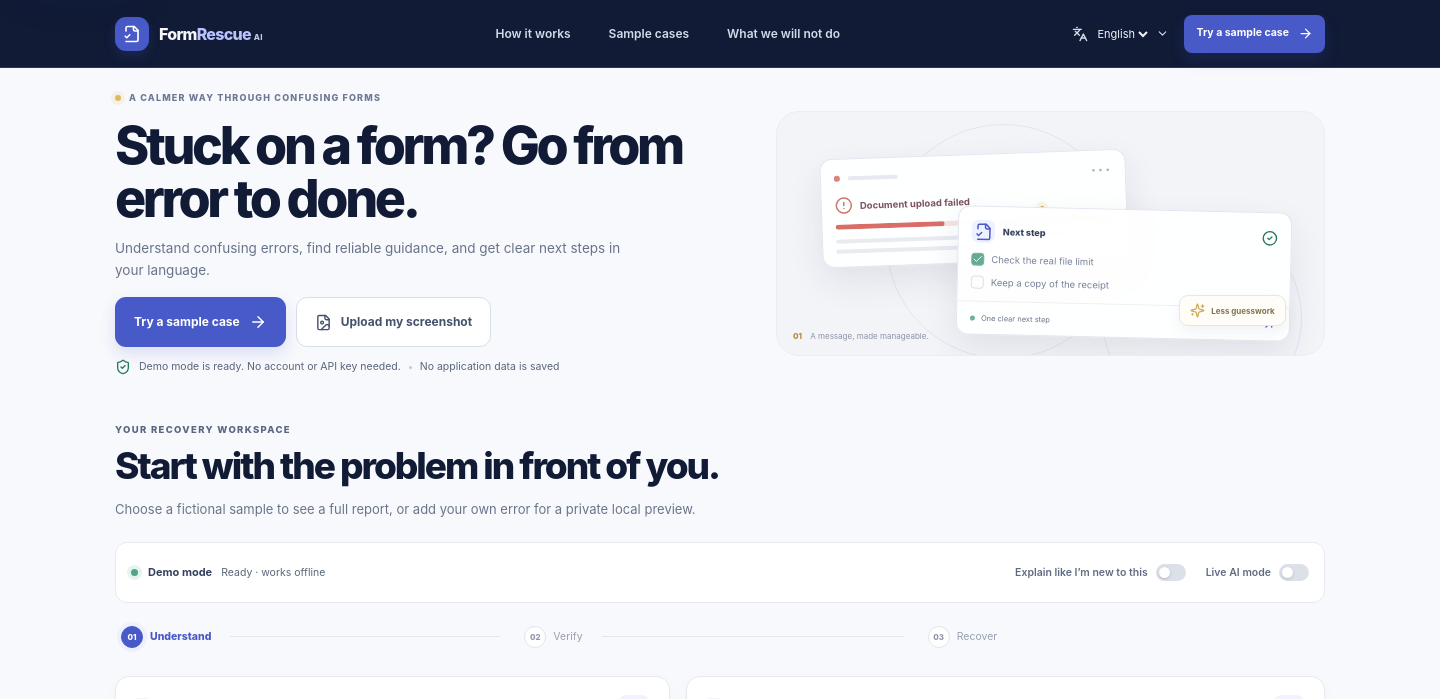
Test case: FormRescue user workflows › renders complete Hindi evidence, source and recovery content for cleargrid-address
Click the button "Try a sample case" in the row of "Sample cases" at (1255, 34), box top-left (1184, 14), bottom-right (1325, 52)
(page scrolled)
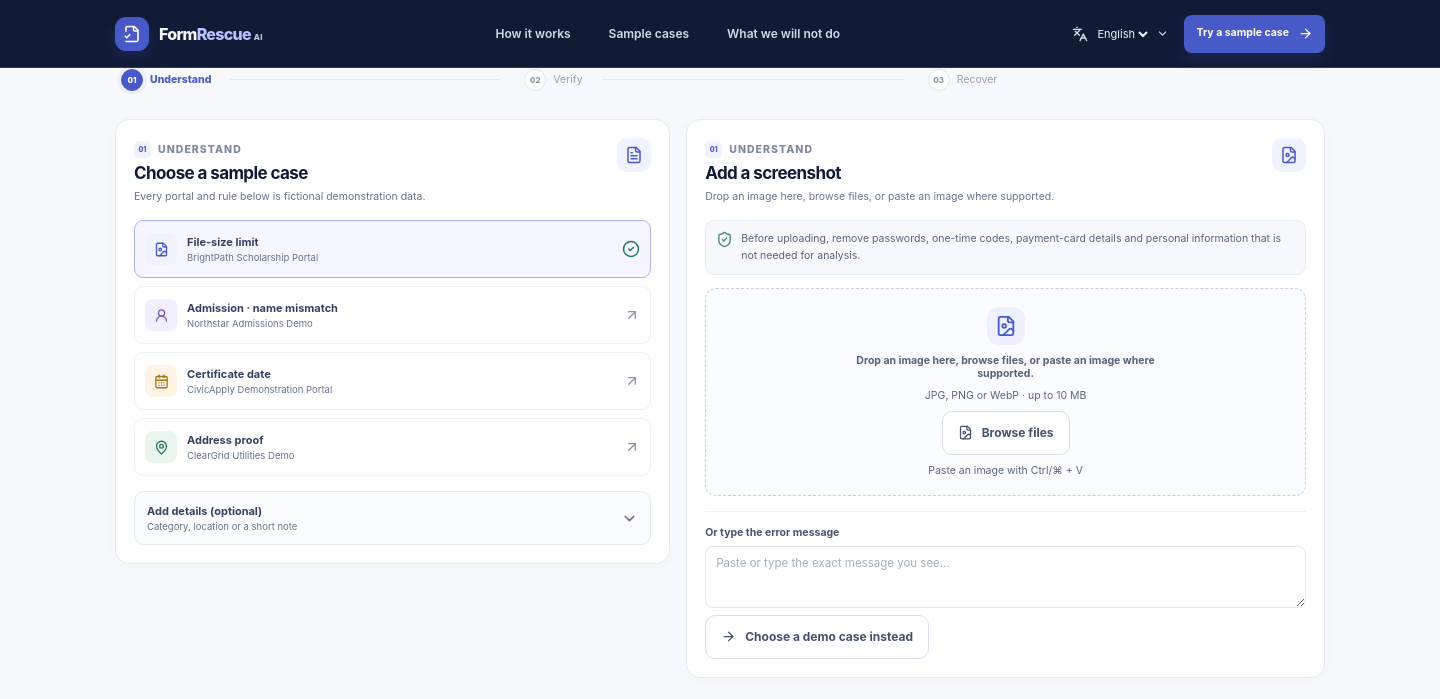
Click the button "Address proof ClearGrid Utilities Demo" at (161, 447), box top-left (134, 418), bottom-right (651, 476)
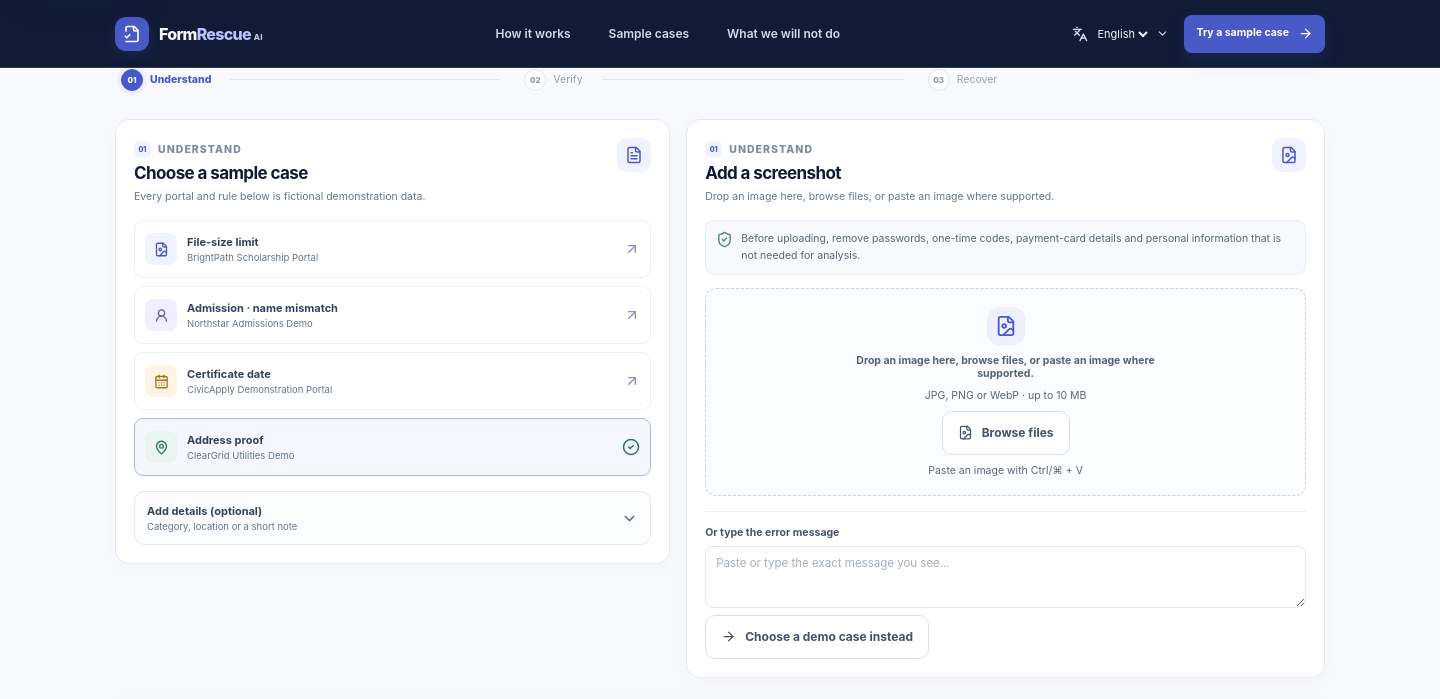
Select "हिन्दी" in the dropdown named "Language" at (1122, 34), box top-left (1094, 26), bottom-right (1152, 42)
(page scrolled)
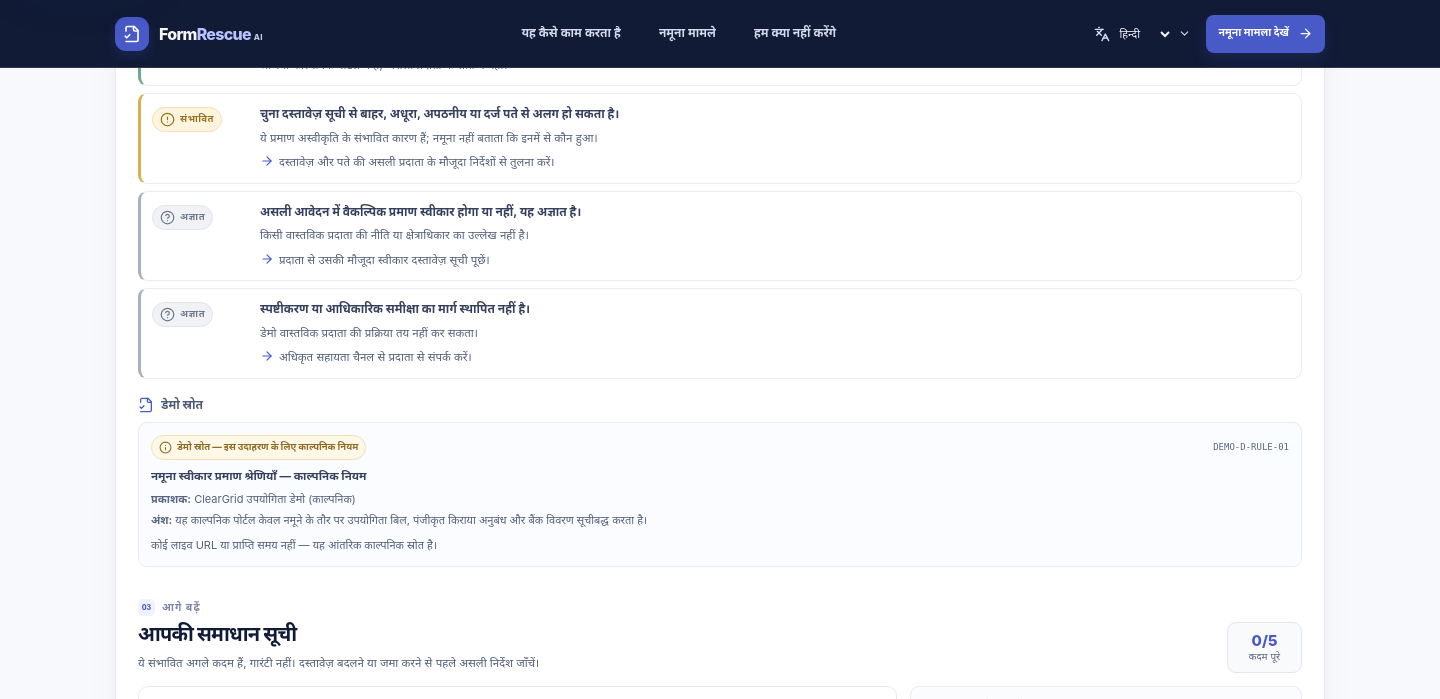
Expected: the text "DEMO-D-RULE-01" is shown, top-left (1213, 442), bottom-right (1289, 452)
Expected: the text "डेमो स्रोत — इस उदाहरण के लिए काल्पनिक नियम" is shown, top-left (151, 434), bottom-right (366, 460)
